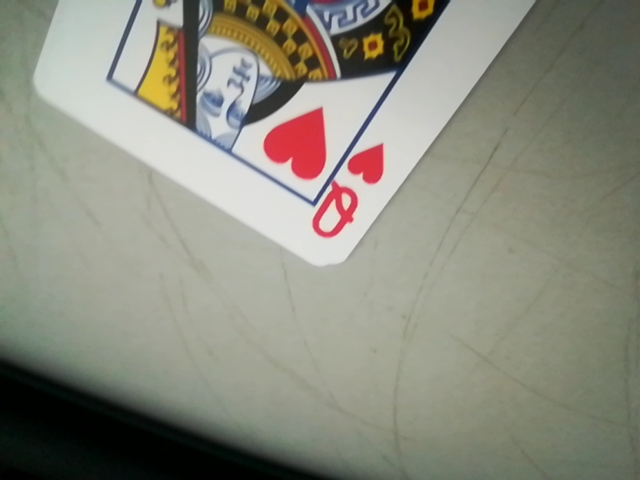hx q: (304, 143, 396, 251)
